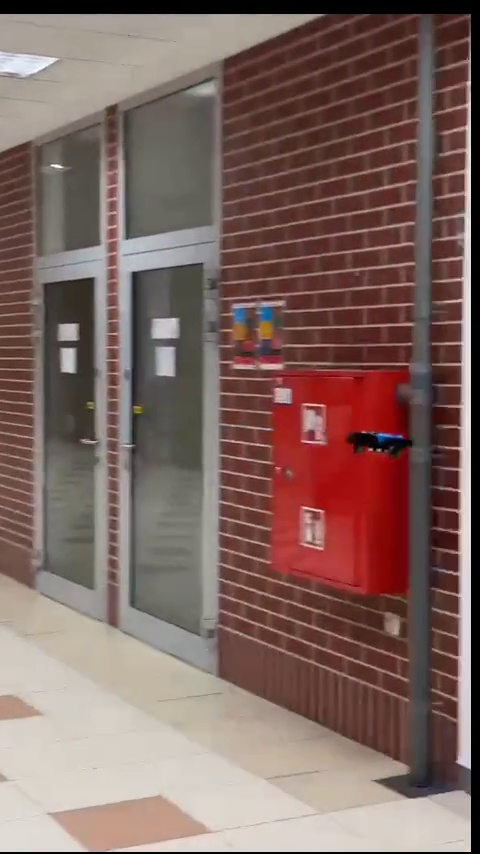drone: (352, 427, 415, 455)
